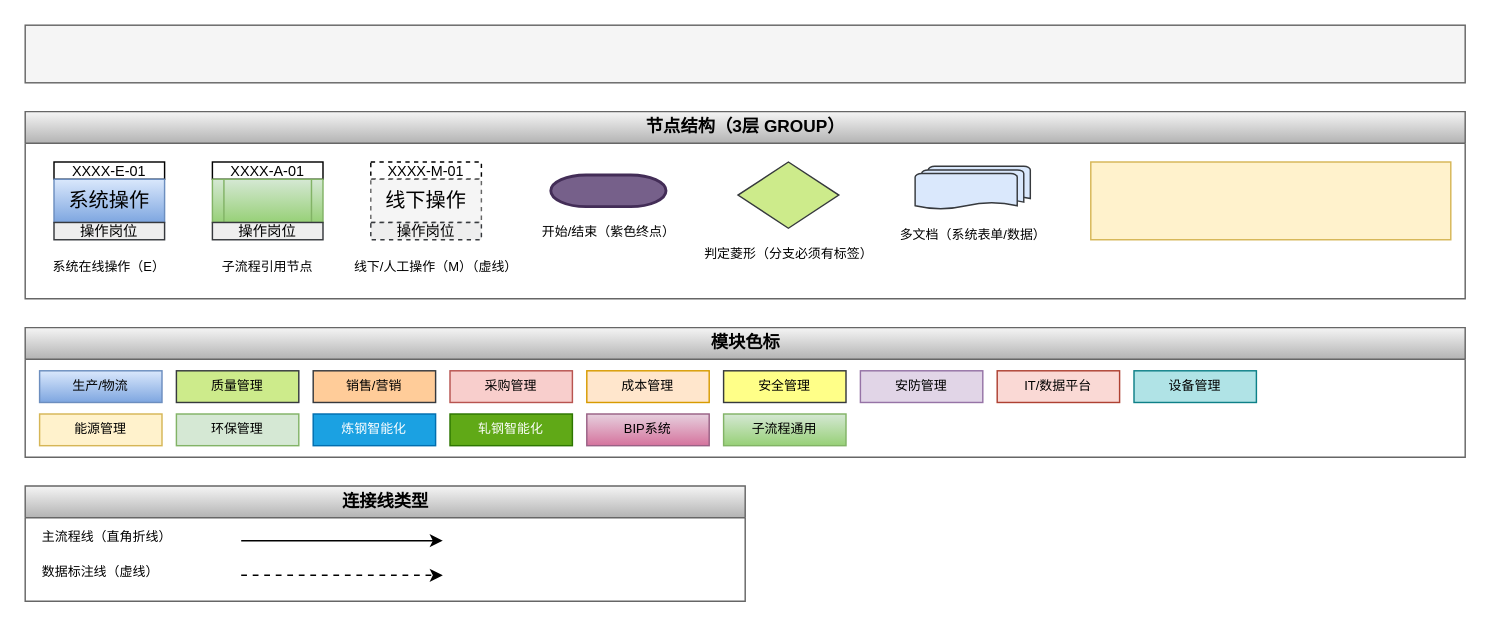
Image size: 1490x626. Some labels were removed from this diagram. The shapes that lost their labels are listed below. From the top down, each one's centre as x and y in pixels, then its label:
At point (744, 53): "流程图绘制规范 · wl-skills-design v1.0".
At point (267, 200): "子流程引用".
At point (608, 190): "开始/结束".
At point (788, 194): "逻辑判定".
At point (972, 187): "系统表单/数据".
At point (1270, 200): "编码：[系统代码]-[类型]-[序号] 例：FGPM-E-01 E=金恒 C=异质系统 M=人工".
